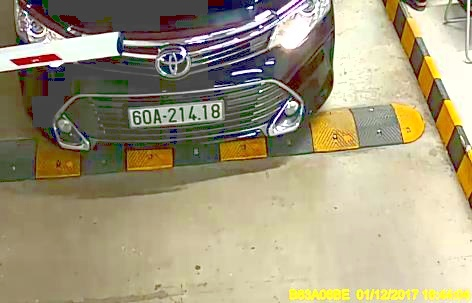plate: (127, 99, 223, 125)
